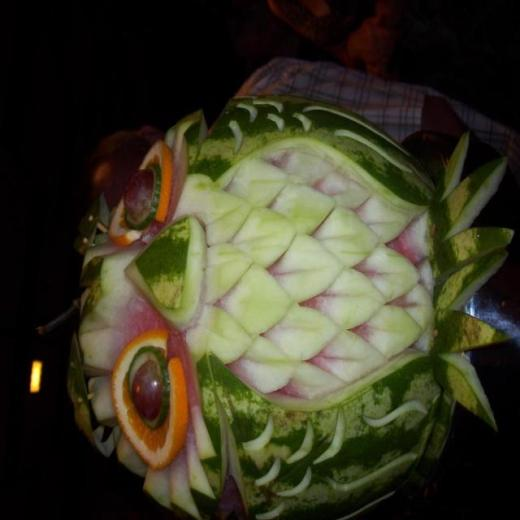Cherry: (37, 90, 518, 520)
